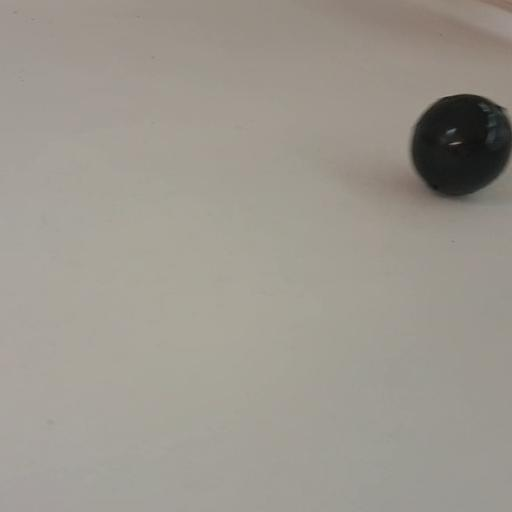dead: (406, 93, 509, 197)
